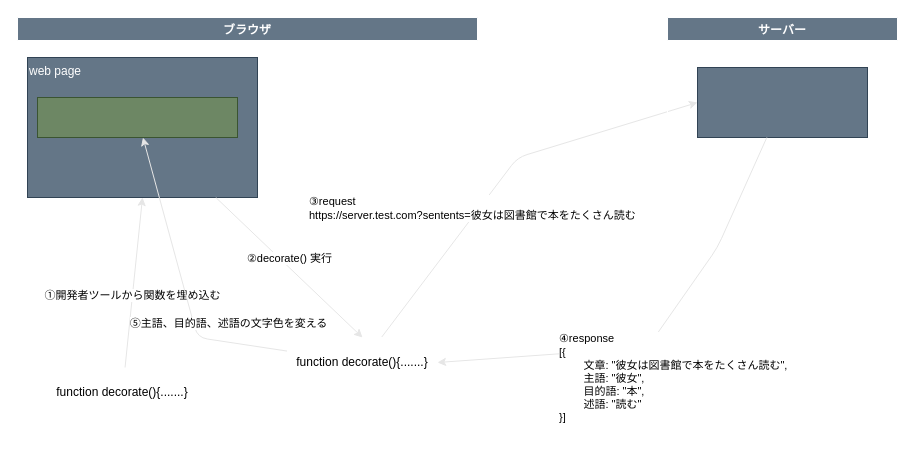
This 915x455 diagram has some shape labels left out. Each missing label, with the centre of its shape:
単語依存構造解析: point 782,102
彼女は図書館で本をたくさん読む: point 137,117
